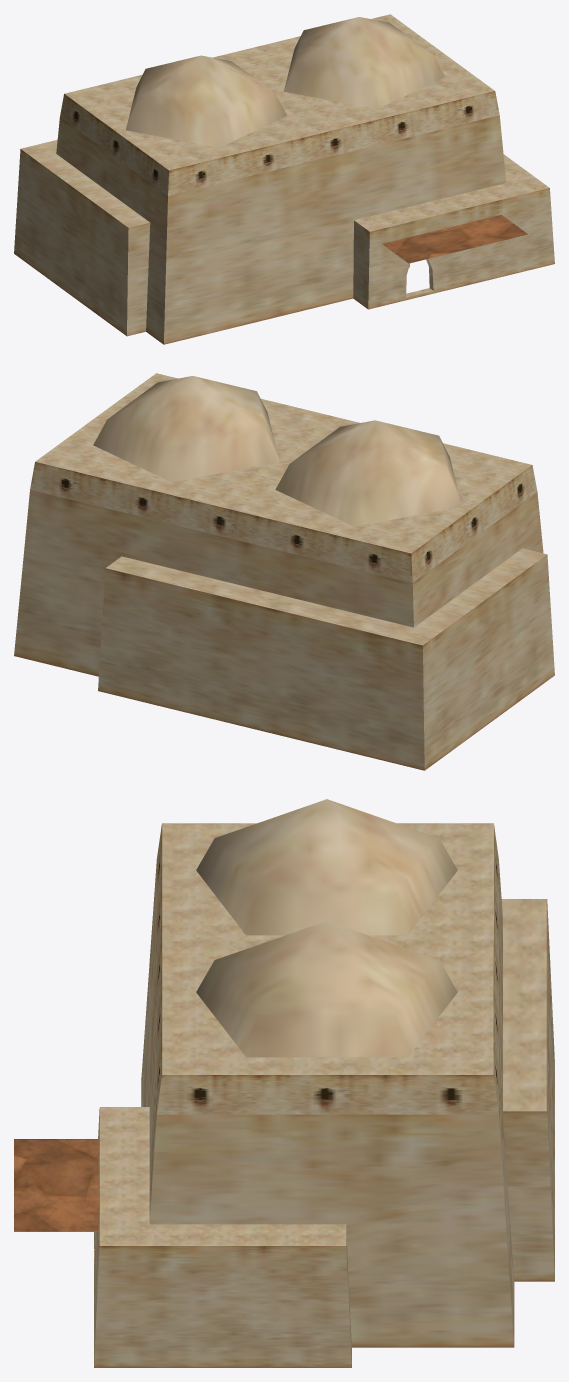
The model's file is thm_tato_imprv_building_s03_r0_mesh_l4.fbx.
3 renders of one model, top to bottom at view 1: azimuth 30°, elevation 25°; view 2: azimuth 150°, elevation 25°; view 3: azimuth 270°, elevation 25°, orthographic. The views are drawn at different scales.
Visible parts, largest first — view 1: mesh_node; view 2: mesh_node; view 3: mesh_node.
Boxes of the visible parts, box(x1,y1,x2,y2) form: mesh_node: box(14, 14, 554, 344); mesh_node: box(14, 373, 554, 770); mesh_node: box(14, 799, 554, 1367).
Bounding box in the file's own units: 31.65 × 17.06 × 23.73.
1 material, 1 textured.
